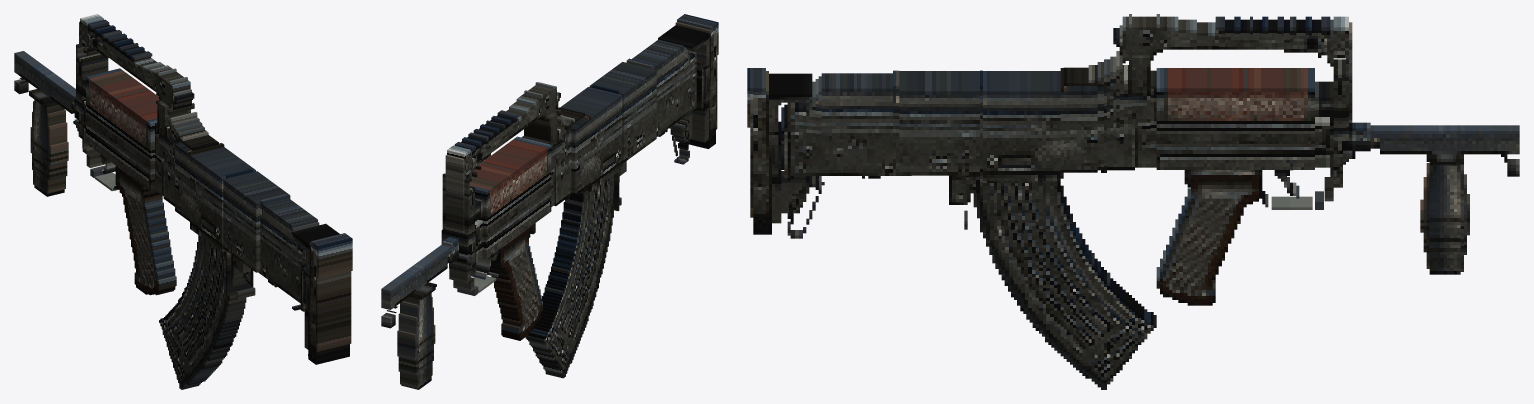
3 views of the same model, side by side, from view 1: azimuth 30°, elevation 25°; view 2: azimuth 150°, elevation 25°; view 3: azimuth 270°, elevation 25° (orthographic). The views are drawn at different scales.
Parts seen in each view (by area): view 1: download_51, download_63, download_62, download_75, download_64, download_88, download_110, download_129, download_61, download_71, download_44, download_58 (+24 smaller); view 2: download_51, download_63, download_62, download_64, download_88, download_24, download_110, download_61, download_129, download_40, download_58, download_130 (+38 smaller); view 3: download_51, download_62, download_63, download_64, download_88, download_110, download_129, download_61, download_130, download_113, download_58, download_183 (+17 smaller).
Part boxes in pixels (box(x1,y1,x2,y2)): download_51: box(86, 68, 159, 190); download_63: box(223, 171, 290, 272); download_62: box(190, 147, 255, 251); download_75: box(316, 254, 351, 351); download_64: box(263, 198, 317, 266); download_88: box(14, 51, 75, 113); download_110: box(34, 99, 64, 196); download_129: box(199, 236, 224, 362); download_61: box(175, 142, 190, 219); download_71: box(317, 245, 352, 278); download_44: box(77, 53, 108, 122); download_58: box(311, 233, 349, 355); download_51: box(470, 136, 551, 258); download_63: box(589, 62, 656, 162); download_62: box(560, 87, 622, 191); download_64: box(632, 39, 683, 106); download_88: box(381, 247, 447, 309); download_24: box(445, 154, 464, 233); download_110: box(401, 293, 431, 389); download_61: box(571, 118, 587, 195); download_129: box(580, 191, 591, 316); download_40: box(524, 116, 557, 170); download_58: box(677, 16, 715, 137); download_130: box(592, 175, 613, 225); download_51: box(1156, 68, 1314, 169); download_62: box(983, 71, 1060, 181); download_63: box(899, 71, 979, 175); download_64: box(821, 73, 892, 139); download_88: box(1380, 125, 1519, 154); download_110: box(1429, 164, 1460, 274); download_129: box(1039, 181, 1057, 333); download_61: box(1066, 86, 1097, 172); download_130: box(983, 181, 1035, 229); download_113: box(1191, 170, 1262, 198); download_58: box(753, 68, 765, 223); download_183: box(1001, 229, 1035, 280).
Size of the model in its own units: 0.0517 by 0.4333 by 0.83.
1 material, 1 textured.
